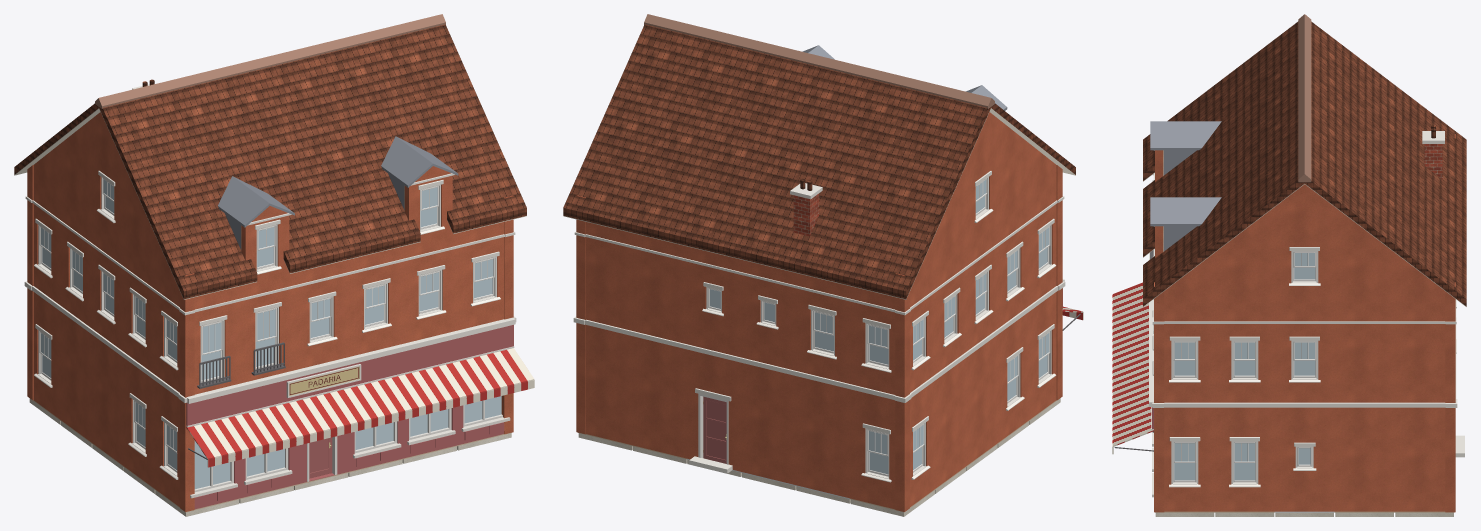
Rendered from building_assembled.glb.
3 views of the same model, side by side, from view 1: azimuth 30°, elevation 25°; view 2: azimuth 150°, elevation 25°; view 3: azimuth 270°, elevation 25° (orthographic). The views are drawn at different scales.
Parts seen in each view (by area): view 1: building_render, building_roof_tiles, building_canvas, building_trim, building_glass, building_shop_paint, building_frame, building_sash, building_slate, building_ridge, building_plaster, building_iron (+3 smaller); view 2: building_render, building_roof_tiles, building_trim, building_glass, building_ridge, building_plaster, building_sash, building_frame, building_door, building_brick; view 3: building_render, building_roof_tiles, building_trim, building_canvas, building_slate, building_glass, building_ridge, building_sash, building_plaster, building_frame, building_brick, building_floor.
Boxes of the visible parts, x1,y1,x2,y2 form: building_render: (27, 112, 513, 511); building_roof_tiles: (14, 24, 526, 299); building_canvas: (186, 348, 534, 467); building_trim: (24, 84, 516, 498); building_glass: (41, 180, 501, 489); building_shop_paint: (186, 325, 513, 509); building_frame: (38, 177, 502, 492); building_sash: (39, 178, 494, 472); building_slate: (218, 136, 458, 249); building_ridge: (95, 14, 445, 108); building_plaster: (14, 108, 526, 516); building_iron: (186, 342, 285, 459); building_render: (576, 112, 1062, 511); building_roof_tiles: (563, 24, 1075, 299); building_trim: (573, 171, 1065, 482); building_glass: (710, 180, 1049, 474); building_ridge: (644, 14, 994, 108); building_plaster: (563, 108, 1075, 516); building_sash: (708, 178, 1050, 476); building_frame: (698, 177, 1051, 478); building_door: (703, 396, 726, 463); building_brick: (793, 193, 819, 236); building_render: (1154, 134, 1455, 512); building_roof_tiles: (1143, 21, 1466, 306); building_trim: (1149, 131, 1464, 497); building_canvas: (1112, 282, 1153, 454); building_slate: (1150, 121, 1221, 251); building_glass: (1174, 253, 1315, 480); building_ridge: (1298, 14, 1311, 182); building_sash: (1173, 252, 1316, 482); building_plaster: (1143, 150, 1466, 516); building_frame: (1171, 251, 1318, 483); building_brick: (1424, 144, 1442, 179); building_floor: (1155, 511, 1454, 512).
Bounding box in the file's own units: 12.64 × 12.78 × 11.82.
19 materials, 6 textured.
